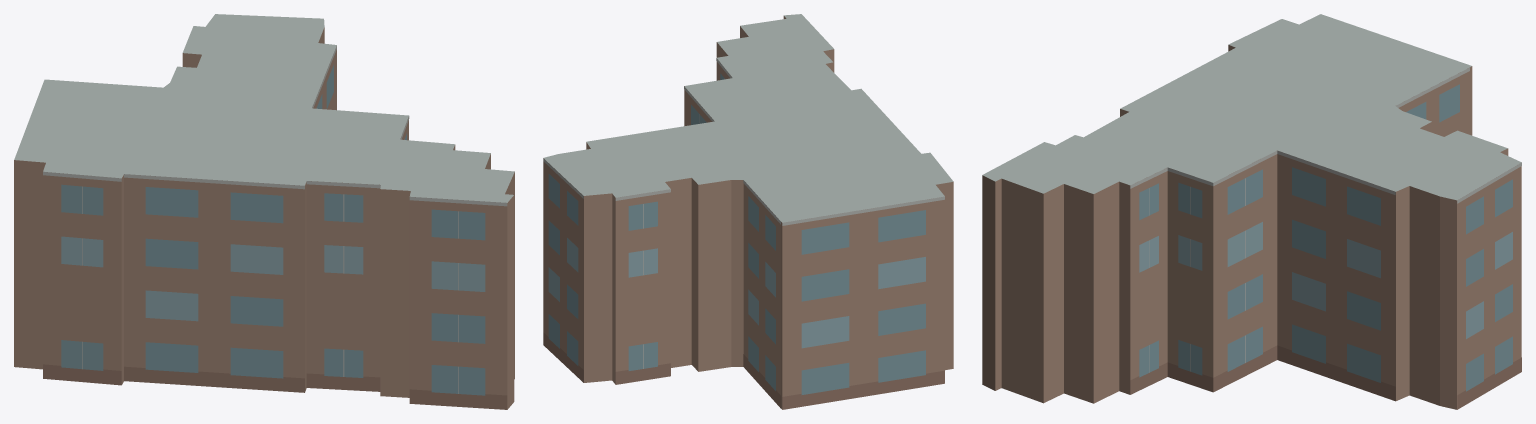
The model's file is survey-upis-32891985.glb.
The picture shows the model from 3 angles, left to right: view 1: azimuth 30°, elevation 25°; view 2: azimuth 150°, elevation 25°; view 3: azimuth 270°, elevation 25°; orthographic projection. The views are drawn at different scales.
Parts seen in each view (by area): view 1: survey-upis-32891985.tmp; view 2: survey-upis-32891985.tmp; view 3: survey-upis-32891985.tmp.
Boxes of the visible parts, left/top/right/bottom form: survey-upis-32891985.tmp: left=14, top=14, right=514, bottom=409; survey-upis-32891985.tmp: left=543, top=14, right=953, bottom=409; survey-upis-32891985.tmp: left=982, top=14, right=1521, bottom=409.
Size of the model in its own units: 27.57 by 14.45 by 33.73.
